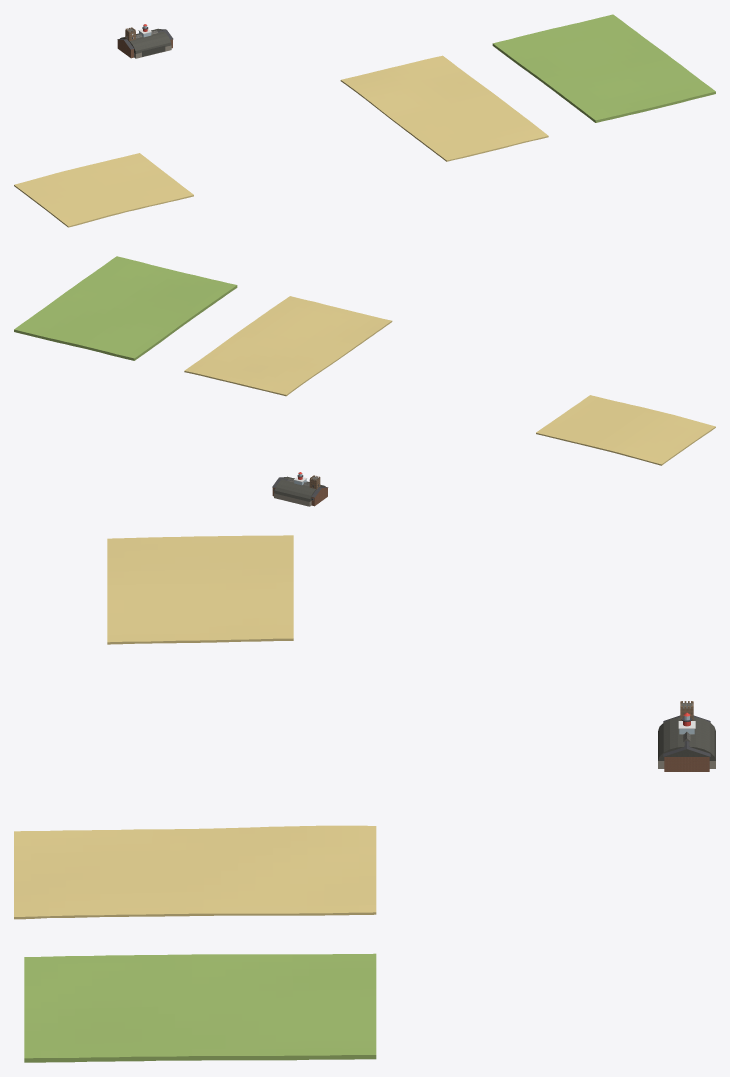
The model's file is props.glb.
3 views of the same model, one above another, from view 1: azimuth 30°, elevation 25°; view 2: azimuth 150°, elevation 25°; view 3: azimuth 270°, elevation 25° (orthographic). The views are drawn at different scales.
Parts seen in each view (by area): view 1: PROP_field_maize_LOD0, PROP_field_wheat_LOD0, PROP_field_wheat2_LOD0, PROP_hangar_LOD0; view 2: PROP_field_maize_LOD0, PROP_field_wheat_LOD0, PROP_field_wheat2_LOD0, PROP_hangar_LOD0; view 3: PROP_field_maize_LOD0, PROP_field_wheat_LOD0, PROP_field_wheat2_LOD0, PROP_hangar_LOD0, PROP_warehouse_LOD0.
Part boxes in pixels (x1=…): PROP_field_maize_LOD0: x1=492, y1=14, x2=715, y2=122; PROP_field_wheat_LOD0: x1=340, y1=55, x2=548, y2=161; PROP_field_wheat2_LOD0: x1=14, y1=153, x2=193, y2=227; PROP_hangar_LOD0: x1=120, y1=28, x2=171, y2=58; PROP_field_maize_LOD0: x1=14, y1=256, x2=237, y2=360; PROP_field_wheat_LOD0: x1=184, y1=296, x2=392, y2=396; PROP_field_wheat2_LOD0: x1=536, y1=395, x2=715, y2=465; PROP_hangar_LOD0: x1=274, y1=476, x2=325, y2=506; PROP_field_maize_LOD0: x1=24, y1=953, x2=376, y2=1062; PROP_field_wheat_LOD0: x1=14, y1=825, x2=376, y2=919; PROP_field_wheat2_LOD0: x1=107, y1=535, x2=293, y2=644; PROP_hangar_LOD0: x1=658, y1=717, x2=715, y2=768; PROP_warehouse_LOD0: x1=663, y1=715, x2=710, y2=771.
Size of what is drawn, in the model's own units: 595 by 22.3 by 339.
Materials: 43 (20 with a texture image).
